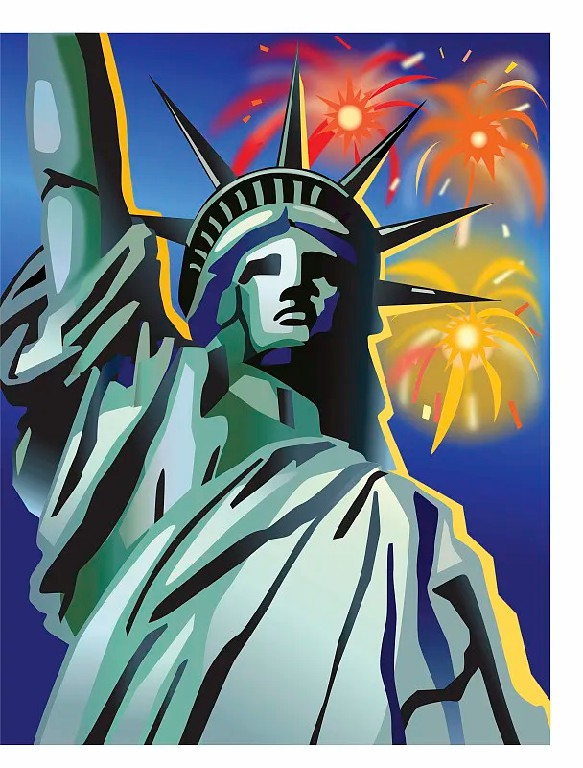SL: (1, 32, 550, 745)
